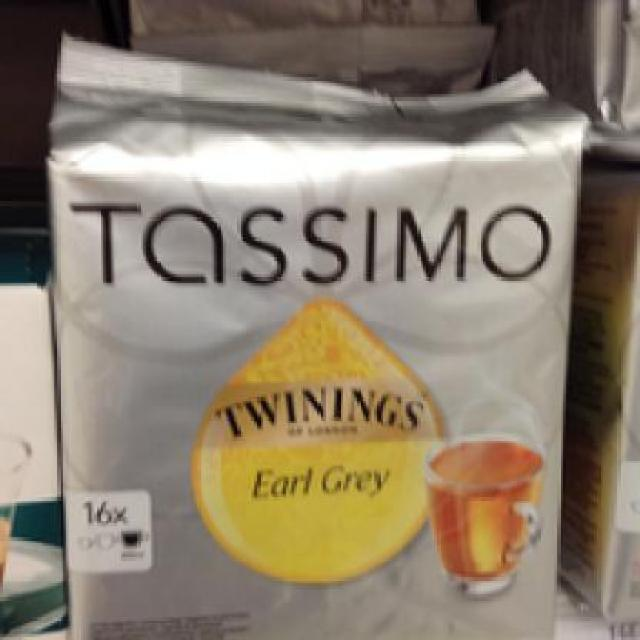Coffee: (46, 25, 580, 638)
